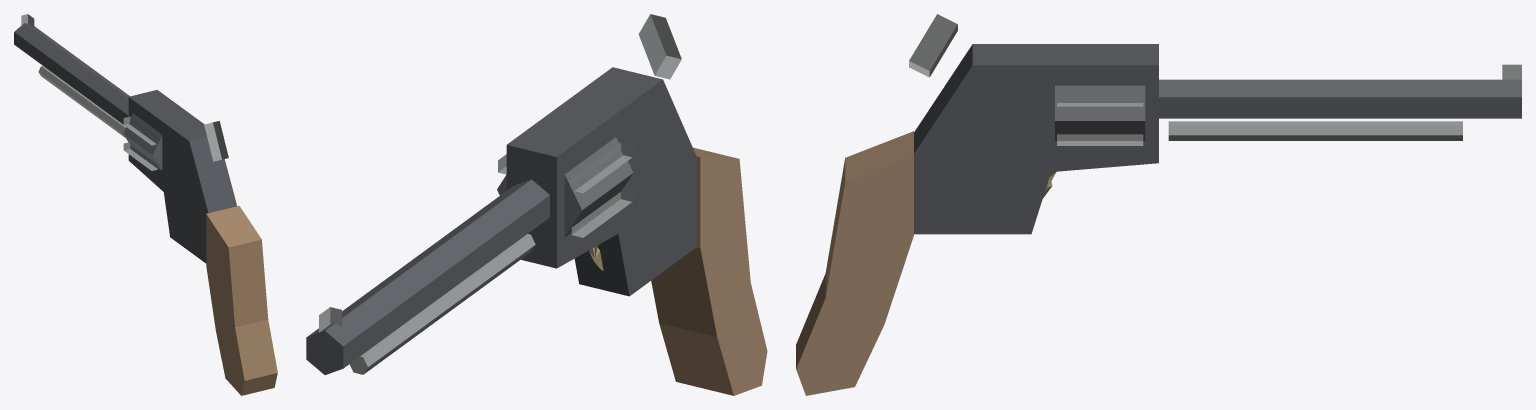
File: revolver.glb
3 renders of one model, left to right at view 1: azimuth 30°, elevation 25°; view 2: azimuth 150°, elevation 25°; view 3: azimuth 270°, elevation 25°, orthographic. The views are drawn at different scales.
Visible parts, largest first — view 1: metal, wood; view 2: metal, wood; view 3: metal, wood.
Part boxes in pixels (bbox=[...]): metal: bbox=[14, 14, 236, 263]; wood: bbox=[206, 205, 277, 395]; metal: bbox=[306, 14, 696, 374]; wood: bbox=[651, 147, 767, 395]; metal: bbox=[909, 14, 1521, 234]; wood: bbox=[796, 131, 913, 395].
Size of the model in its own units: 0.0441 by 0.206 by 0.37.
